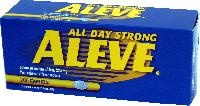grozi_29: (0, 0, 200, 105)
